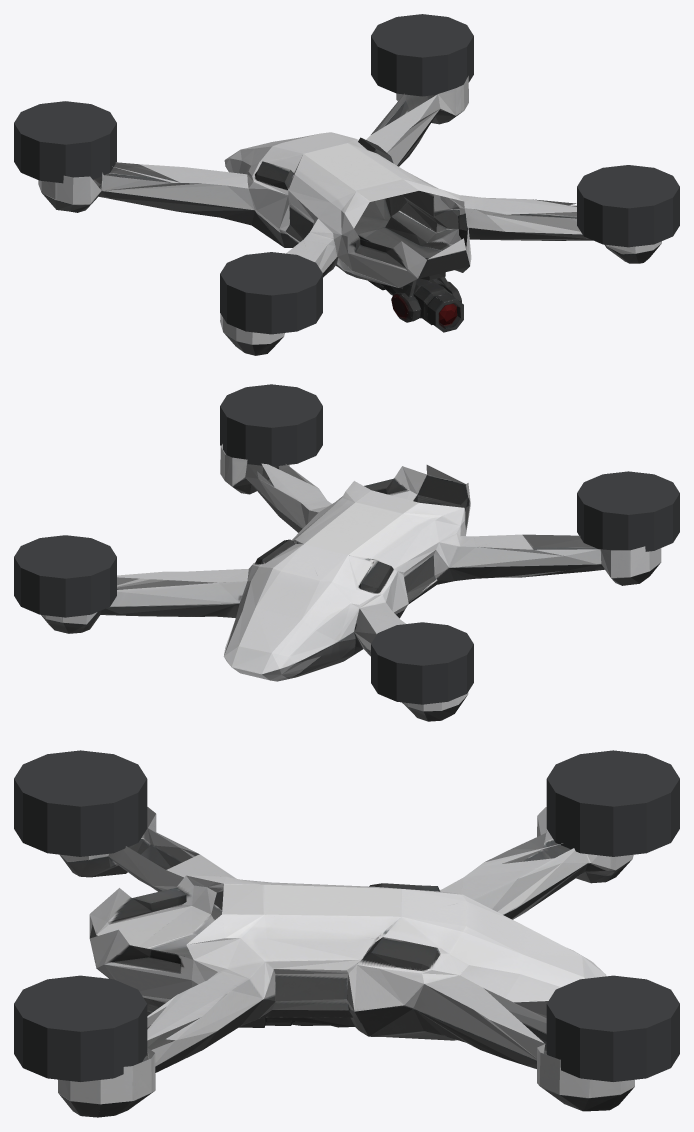
The model's file is V1_drone_a.glb.
3 renders of one model, top to bottom at view 1: azimuth 30°, elevation 25°; view 2: azimuth 150°, elevation 25°; view 3: azimuth 270°, elevation 25°, orthographic. The views are drawn at different scales.
Parts seen in each view (by area): view 1: Mesh_0; view 2: Mesh_0; view 3: Mesh_0.
Boxes of the visible parts, x1=… form: Mesh_0: x1=14, y1=14, x2=679, y2=355; Mesh_0: x1=14, y1=384, x2=679, y2=721; Mesh_0: x1=14, y1=750, x2=679, y2=1117.
Size of the model in its own units: 1.2 by 0.263 by 1.2.
Materials: 2 (1 with a texture image).
